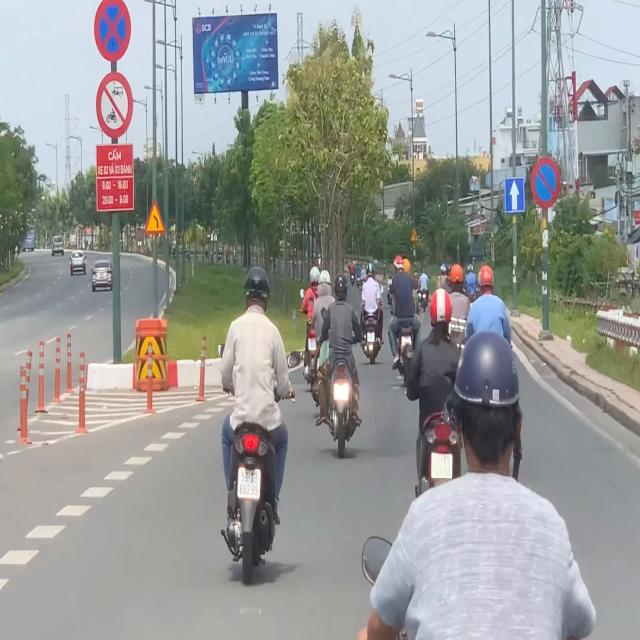Cam con lai: (94, 68, 133, 139)
Cam do: (530, 156, 560, 208)
Cam dung va do: (93, 0, 132, 62)
Chi dan: (504, 177, 525, 214)
Nguy hiem: (145, 201, 165, 235), (411, 229, 418, 241)
